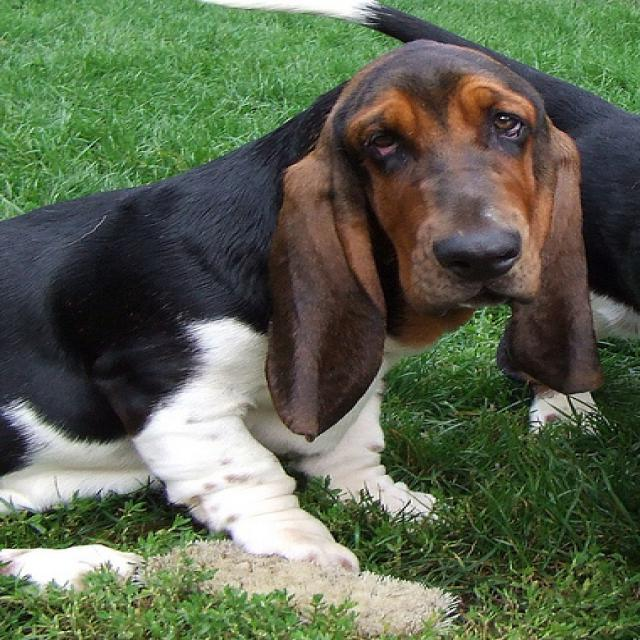dog-basset_hound: (2, 36, 623, 580)
